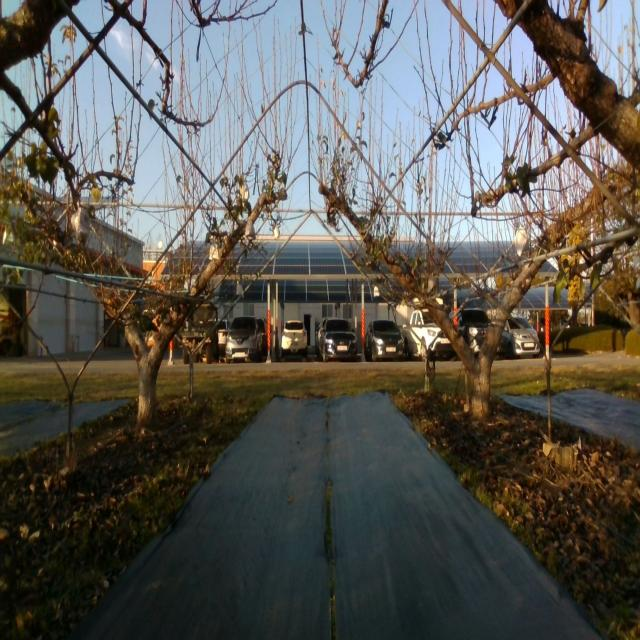pearbags: (72, 206, 90, 246), (514, 228, 528, 258), (246, 219, 256, 240), (209, 244, 219, 262)
